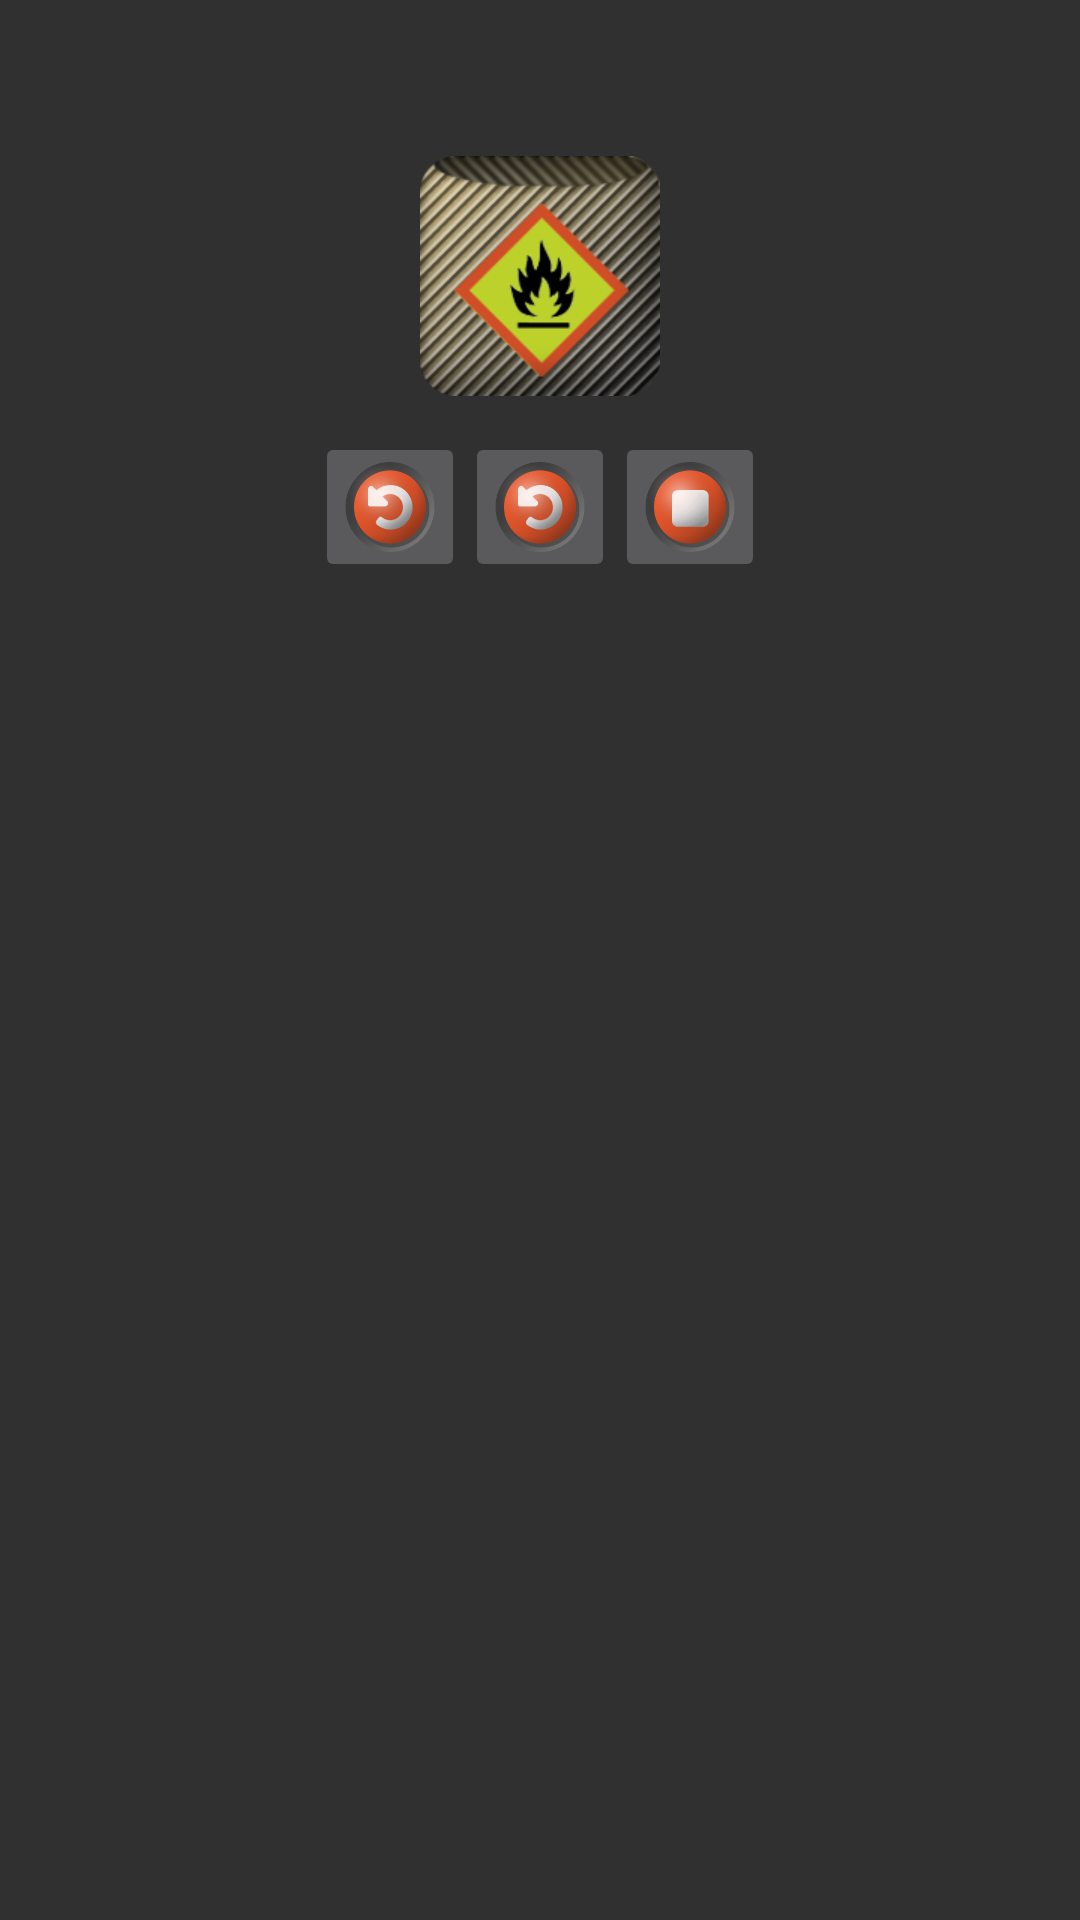

Screen size 1080px x 1920px. Icon name, then its center in pixels as [x,y]:
custom game reverse: [390,507], [540,507]
custom game stop: [690,507]
